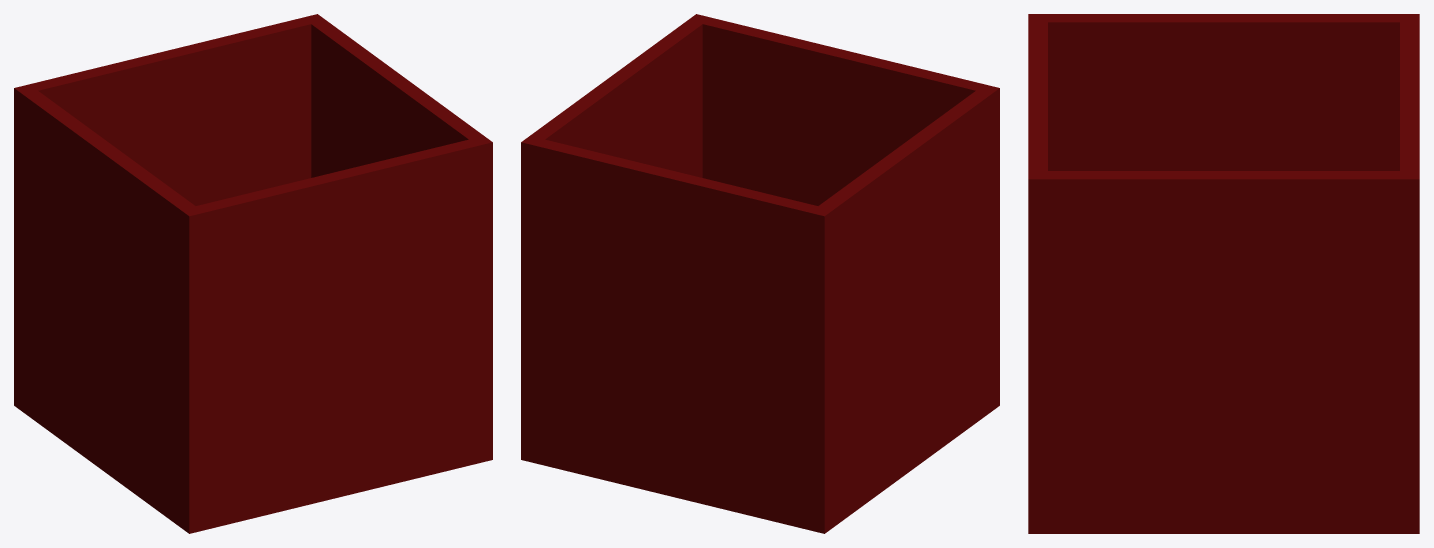
Rendered from PLANO123.fbx.
3 views of the same model, side by side, from view 1: azimuth 30°, elevation 25°; view 2: azimuth 150°, elevation 25°; view 3: azimuth 270°, elevation 25° (orthographic). The views are drawn at different scales.
Visible parts, largest first — view 1: Cube; view 2: Cube; view 3: Cube.
Part boxes in pixels (left/top/right/bottom): Cube: left=14, top=14, right=492, bottom=533; Cube: left=521, top=14, right=999, bottom=533; Cube: left=1028, top=14, right=1419, bottom=533.
Bounding box in the file's own units: 200 × 200 × 200.
